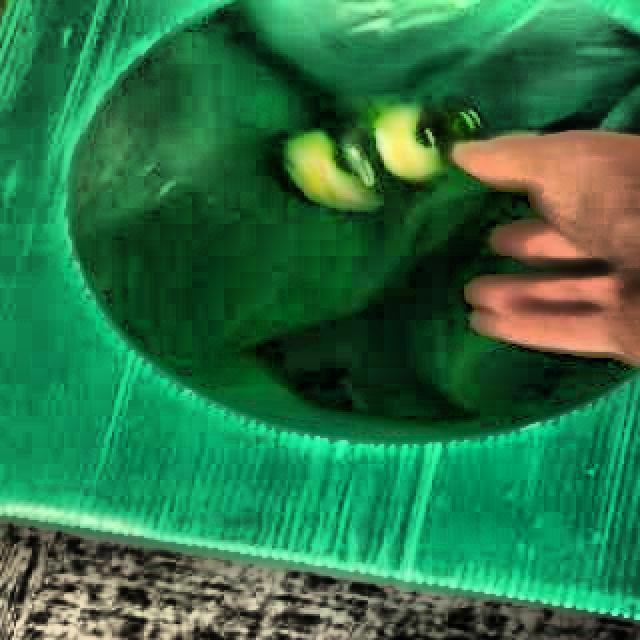glass: (283, 106, 485, 211)
